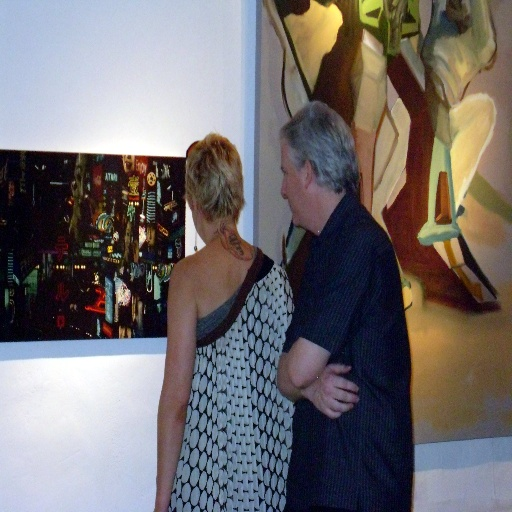hand: (301, 366, 362, 423)
